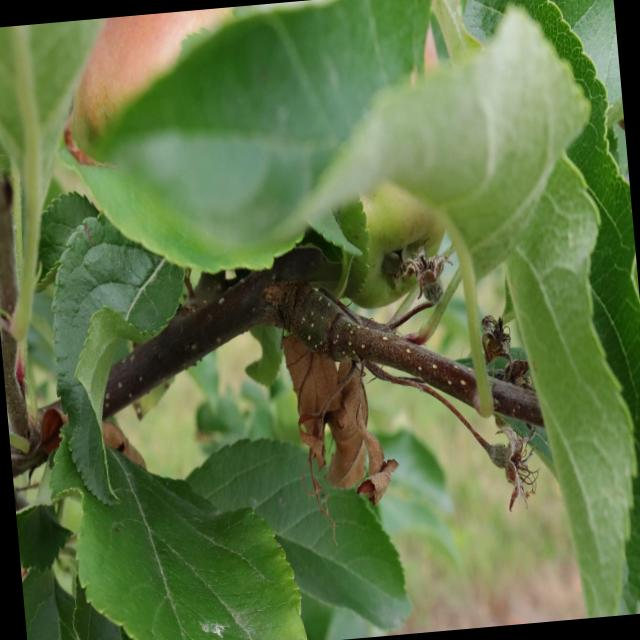-FireBlight-: (280, 321, 402, 519)
